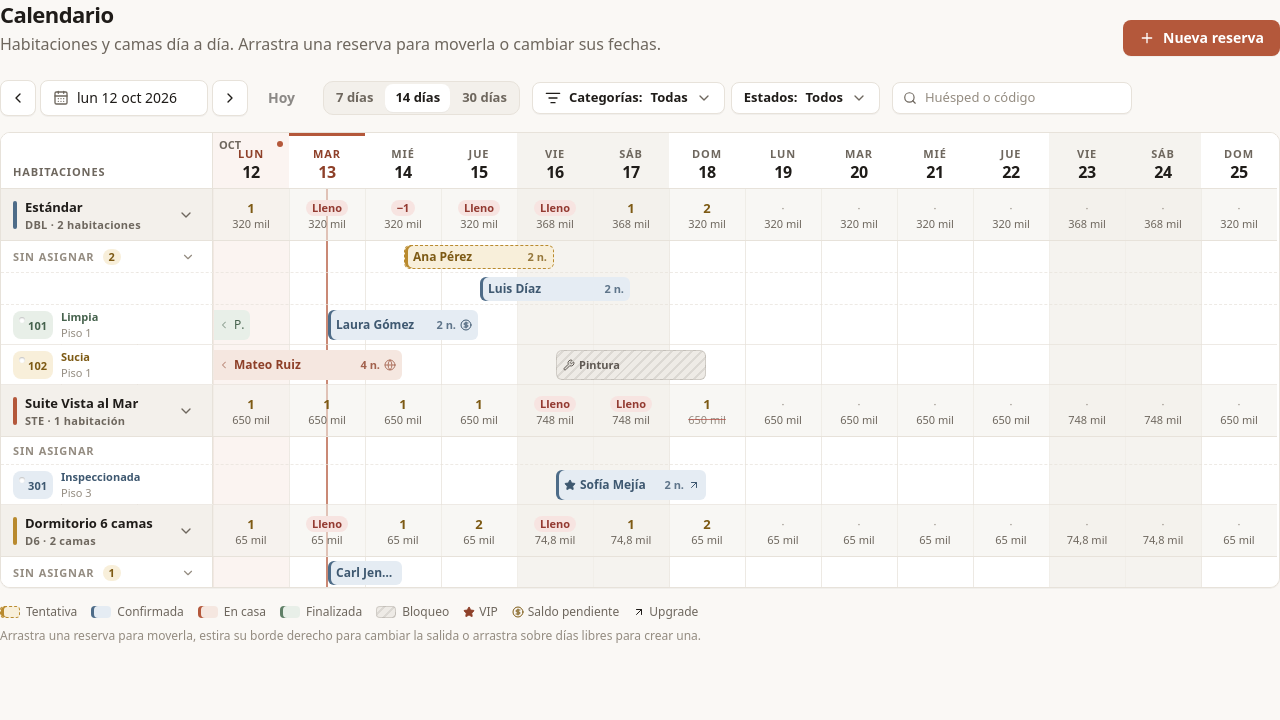
booking side panel › explains a room that is not ready and can check in anyway
Click the button "Laura Gómez 2 n.".
click(403, 325)  # box [328, 310, 478, 340]
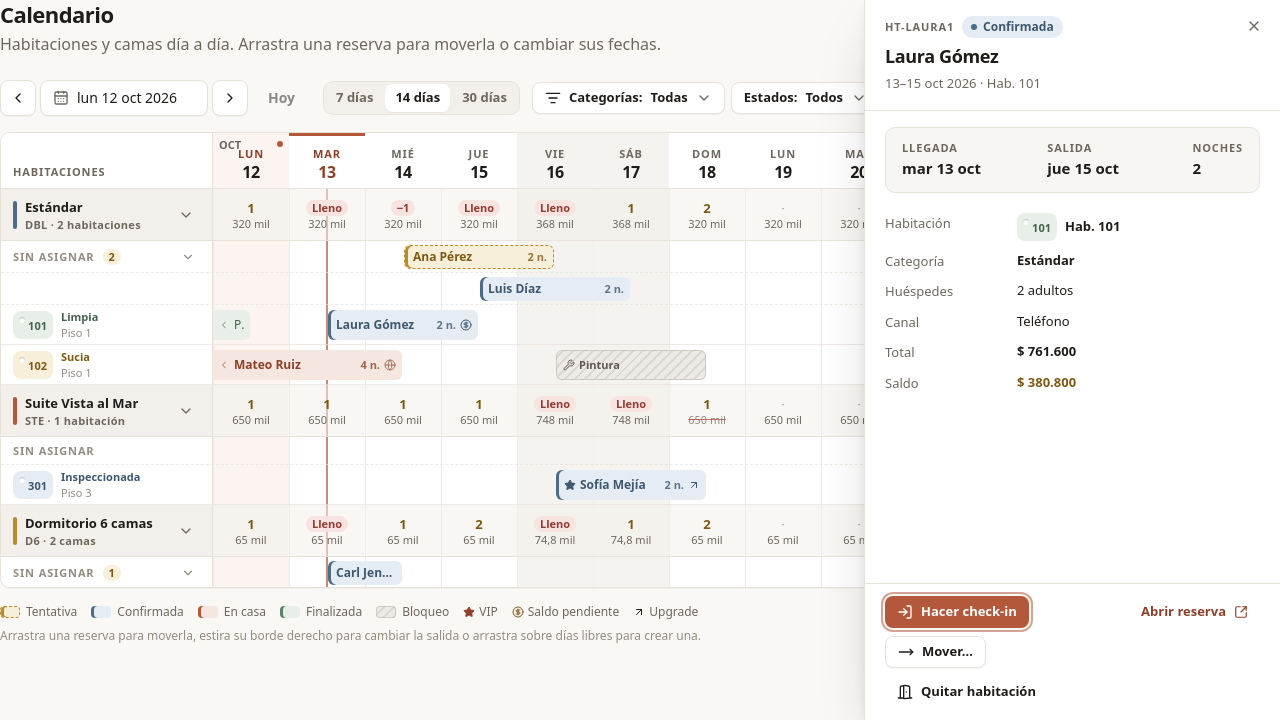
Click the button "Hacer check-in".
click(957, 612)  # box [885, 596, 1029, 628]
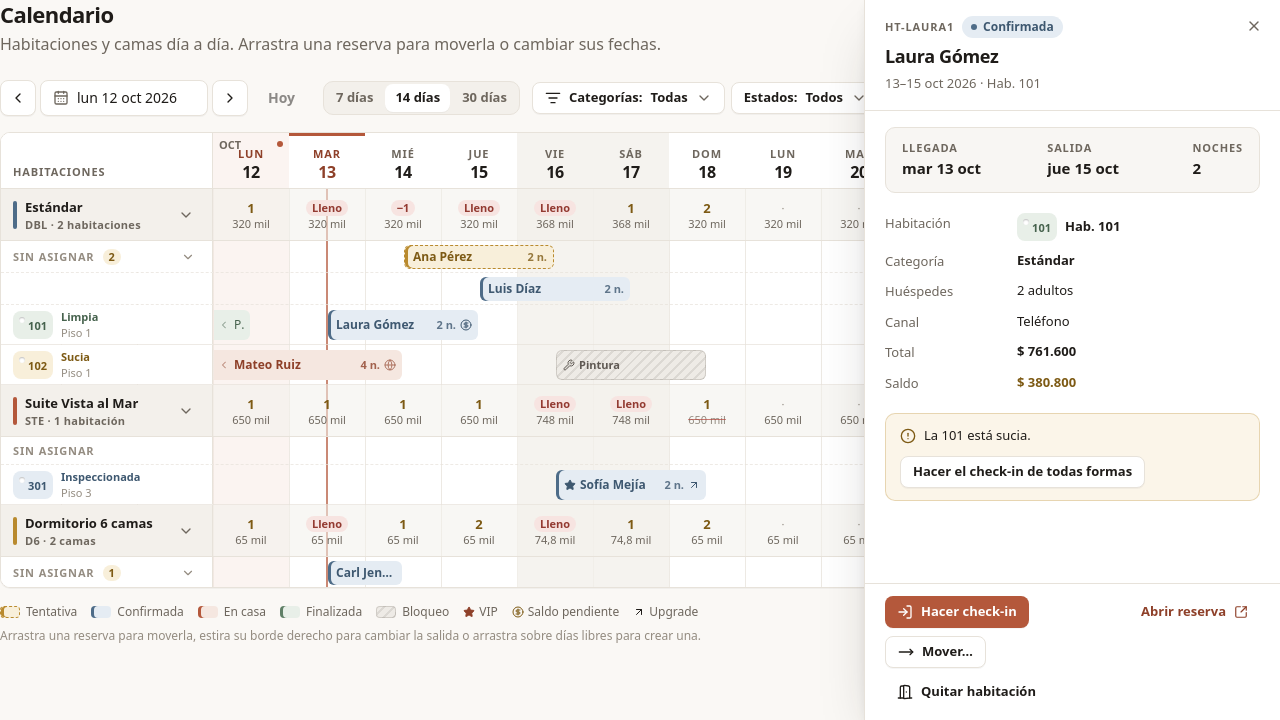
Expected: the text "La 101 está sucia." is shown, [924, 426, 1031, 446]
Click the button "Hacer el check-in de todas formas".
click(1023, 472)  # box [900, 456, 1145, 488]
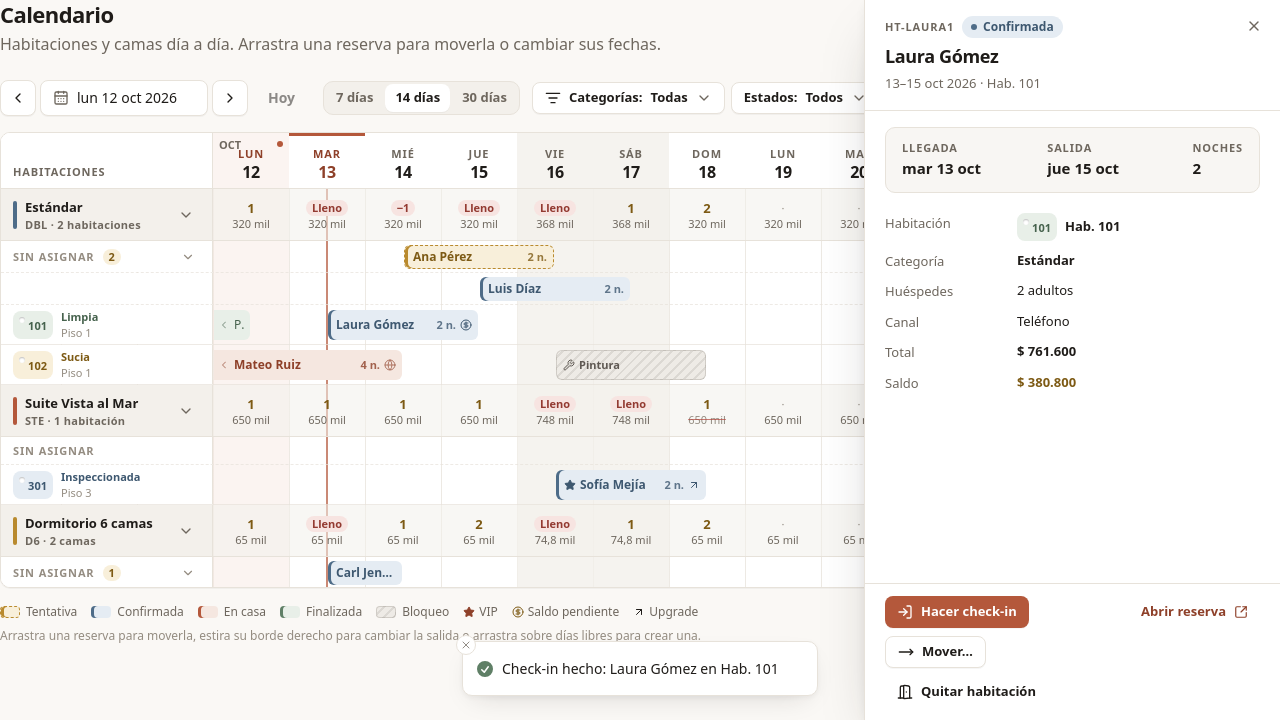
Expected: the text "Check-in hecho: Laura Gómez en Hab. 101" is shown, [502, 658, 779, 679]
